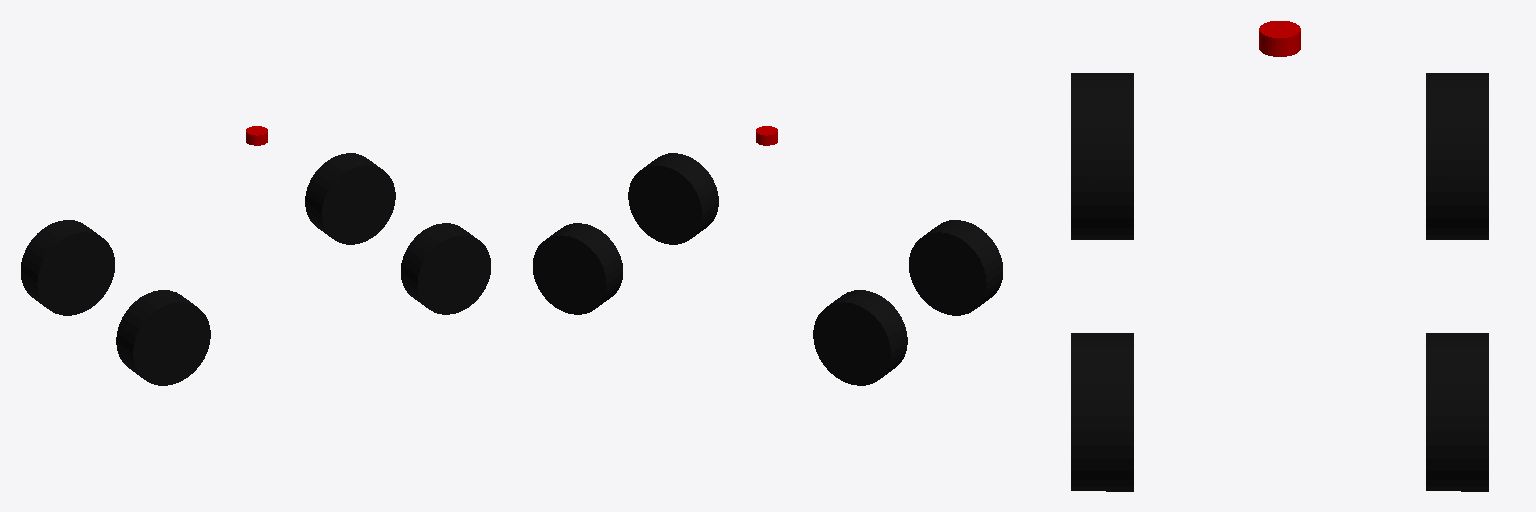
URDF robot description (super_car):
<?xml version="1.0"?>
<robot name="super_car">
  <!-- Main Body: Silver SUV Mesh -->
  <link name="base_link">
    <visual>
      <origin xyz="0 0 0" rpy="0 0 1.57"/>
      <geometry>
        <mesh filename="https://fuel.gazebosim.org/1.0/openrobotics/models/suv/4/meshes/suv.obj" scale="0.06 0.06 0.06"/>
      </geometry>
      <material name="silver"><color rgba="0.75 0.75 0.75 0.8"/></material>
    </visual>
    <collision>
      <origin xyz="0 0 0.5"/>
      <geometry><box size="4.5 2.2 1.2"/></geometry>
    </collision>
  </link>

  <!-- Steering Links -->
  <link name="fl_steering_link"/><link name="fr_steering_link"/>

  <joint name="fl_steer_j" type="revolute">
    <parent link="base_link"/><child link="fl_steering_link"/>
    <origin xyz="1.45 0.85 -0.1" rpy="0 0 0"/><axis xyz="0 0 1"/><limit lower="-0.6" upper="0.6" effort="100" velocity="10"/>
  </joint>
  <joint name="fr_steer_j" type="revolute">
    <parent link="base_link"/><child link="fr_steering_link"/>
    <origin xyz="1.45 -0.85 -0.1" rpy="0 0 0"/><axis xyz="0 0 1"/><limit lower="-0.6" upper="0.6" effort="100" velocity="10"/>
  </joint>

  <!-- Wheels: Positioned exactly in the fenders -->
  <link name="fl_wheel">
    <visual><origin rpy="1.57 0 0"/><geometry><cylinder radius="0.38" length="0.3"/></geometry><material name="black"><color rgba="0.1 0.1 0.1 1"/></material></visual>
  </link>
  <joint name="fl_j" type="continuous">
    <parent link="fl_steering_link"/><child link="fl_wheel"/>
    <origin xyz="0 0 0" rpy="0 0 0"/><axis xyz="0 1 0"/>
  </joint>

  <link name="fr_wheel">
    <visual><origin rpy="1.57 0 0"/><geometry><cylinder radius="0.38" length="0.3"/></geometry><material name="black"/></visual>
  </link>
  <joint name="fr_j" type="continuous">
    <parent link="fr_steering_link"/><child link="fr_wheel"/>
    <origin xyz="0 0 0" rpy="0 0 0"/><axis xyz="0 1 0"/>
  </joint>

  <link name="rl_wheel">
    <visual><origin rpy="1.57 0 0"/><geometry><cylinder radius="0.4" length="0.3"/></geometry><material name="black"/></visual>
  </link>
  <joint name="rl_j" type="continuous">
    <parent link="base_link"/><child link="rl_wheel"/>
    <origin xyz="-1.45 0.85 -0.1" rpy="0 0 0"/><axis xyz="0 1 0"/>
  </joint>

  <link name="rr_wheel">
    <visual><origin rpy="1.57 0 0"/><geometry><cylinder radius="0.4" length="0.3"/></geometry><material name="black"/></visual>
  </link>
  <joint name="rr_j" type="continuous">
    <parent link="base_link"/><child link="rr_wheel"/>
    <origin xyz="-1.45 -0.85 -0.1" rpy="0 0 0"/><axis xyz="0 1 0"/>
  </joint>

  <!-- LiDAR: Placed on the roof -->
  <link name="lidar_link">
    <visual><geometry><cylinder radius="0.1" length="0.1"/></geometry><material name="red"><color rgba="0.8 0 0 1"/></material></visual>
  </link>
  <joint name="lidar_joint" type="fixed">
    <parent link="base_link"/><child link="lidar_link"/>
    <origin xyz="0 0 1.2" rpy="0 0 0"/>
  </joint>

</robot>

--- Facts derived from the render (not from the file) ---
3 views of the same robot in one strip: view 1: azimuth 30°, elevation 25°; view 2: azimuth 150°, elevation 25°; view 3: azimuth 270°, elevation 25° (orthographic).
Model super_car with 8 links and 7 joints (2 revolute, 4 continuous, 1 fixed), rooted at base_link, posed all joints at 0.
Links seen in each view (by area): view 1: rl_wheel, rr_wheel, fr_wheel, fl_wheel; view 2: rr_wheel, rl_wheel, fl_wheel, fr_wheel; view 3: rl_wheel, rr_wheel, fl_wheel, fr_wheel, lidar_link.
Link boxes in pixels (left/top/right/bottom): rl_wheel: left=21, top=220, right=114, bottom=315; rr_wheel: left=116, top=290, right=210, bottom=385; fr_wheel: left=401, top=223, right=490, bottom=314; fl_wheel: left=305, top=153, right=395, bottom=244; rr_wheel: left=909, top=220, right=1002, bottom=315; rl_wheel: left=813, top=290, right=907, bottom=385; fl_wheel: left=533, top=223, right=622, bottom=314; fr_wheel: left=628, top=153, right=718, bottom=244; rl_wheel: left=1426, top=73, right=1488, bottom=239; rr_wheel: left=1071, top=73, right=1133, bottom=239; fl_wheel: left=1426, top=333, right=1488, bottom=491; fr_wheel: left=1071, top=333, right=1133, bottom=491; lidar_link: left=1259, top=21, right=1300, bottom=56.
Bounding box of the posed robot: 3.68 × 2 × 1.75 m (x, y, z).
Geometry: only primitive shapes (box / cylinder / sphere) drawn; not drawn: 1 mesh visual (reference in a form the renderer does not follow).
